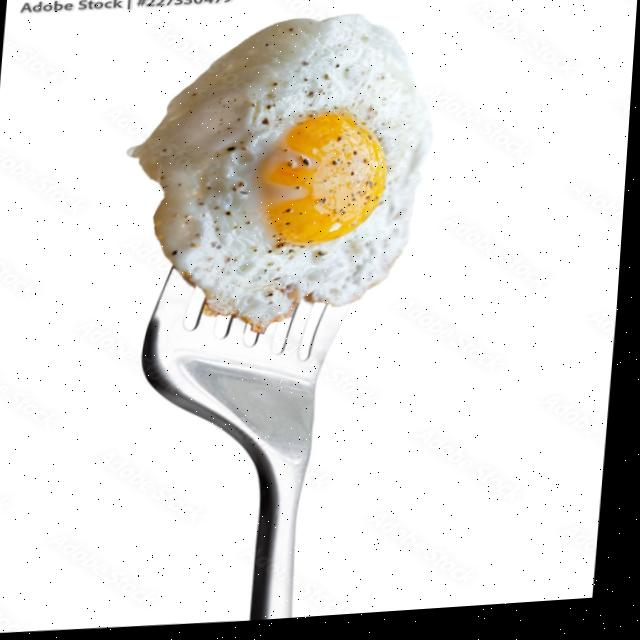Egg: (129, 20, 432, 336)
